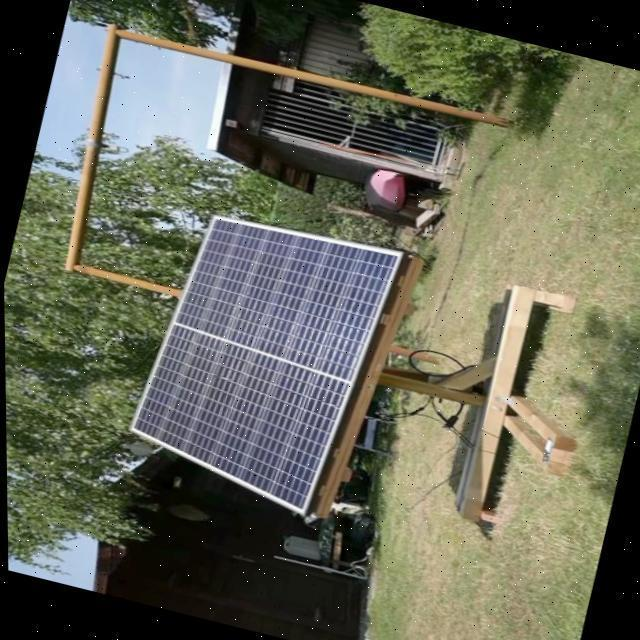Normal Solar Panel: (117, 196, 409, 524)
